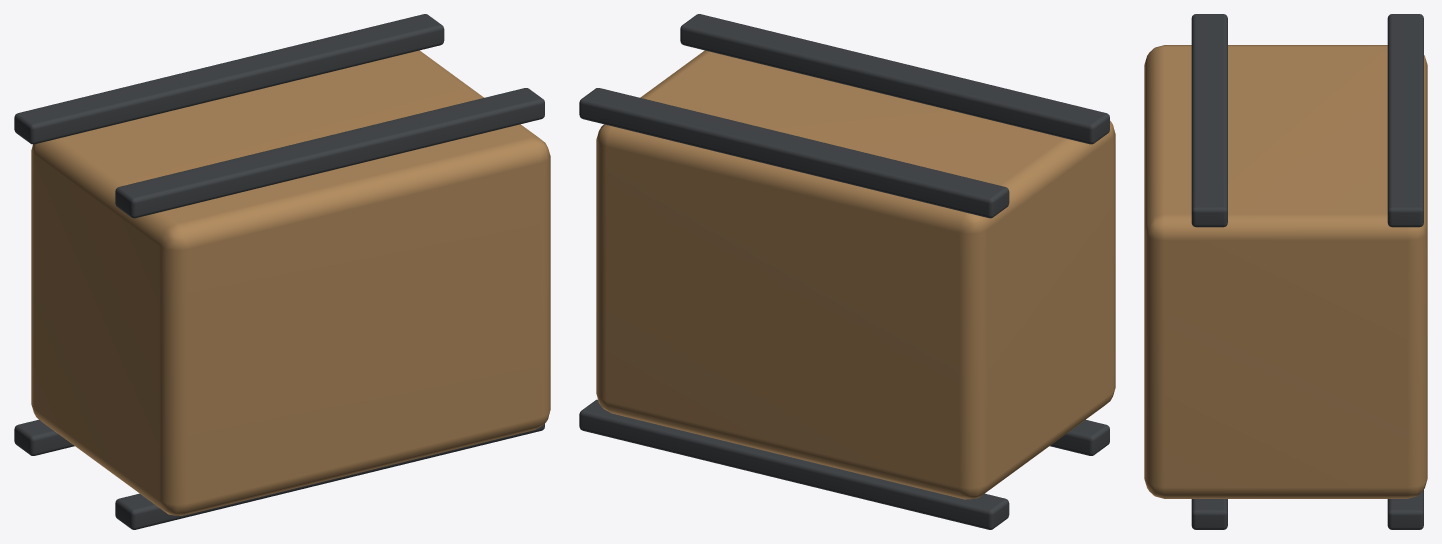
The model's file is prop_crate_final.glb.
3 views of the same model, side by side, from view 1: azimuth 30°, elevation 25°; view 2: azimuth 150°, elevation 25°; view 3: azimuth 270°, elevation 25° (orthographic). The views are drawn at different scales.
Parts seen in each view (by area): view 1: rough_military_storage_crate, steel_crate_band_z_0.46, steel_crate_lower_band_z_0.46, steel_crate_lower_band_z_-0.46, steel_crate_band_z_-0.46; view 2: rough_military_storage_crate, steel_crate_band_z_0.46, steel_crate_lower_band_z_0.46, steel_crate_band_z_-0.46, steel_crate_lower_band_z_-0.46; view 3: rough_military_storage_crate, steel_crate_lower_band_z_0.46, steel_crate_band_z_0.46, steel_crate_band_z_-0.46, steel_crate_lower_band_z_-0.46.
Part boxes in pixels (x1,y1,x2,y2): rough_military_storage_crate: (31, 50, 550, 515); steel_crate_band_z_0.46: (14, 14, 444, 144); steel_crate_lower_band_z_0.46: (115, 88, 544, 218); steel_crate_lower_band_z_-0.46: (115, 424, 544, 529); steel_crate_band_z_-0.46: (14, 419, 74, 455); rough_military_storage_crate: (596, 50, 1115, 499); steel_crate_band_z_0.46: (579, 88, 1009, 218); steel_crate_lower_band_z_0.46: (680, 14, 1109, 144); steel_crate_band_z_-0.46: (579, 399, 1009, 529); steel_crate_lower_band_z_-0.46: (1050, 419, 1109, 455); rough_military_storage_crate: (1144, 45, 1427, 498); steel_crate_lower_band_z_0.46: (1191, 14, 1227, 227); steel_crate_band_z_0.46: (1387, 14, 1423, 227); steel_crate_band_z_-0.46: (1387, 490, 1423, 529); steel_crate_lower_band_z_-0.46: (1191, 499, 1227, 529).
Bounding box in the file's own units: 1.28 × 0.98 × 0.78.
